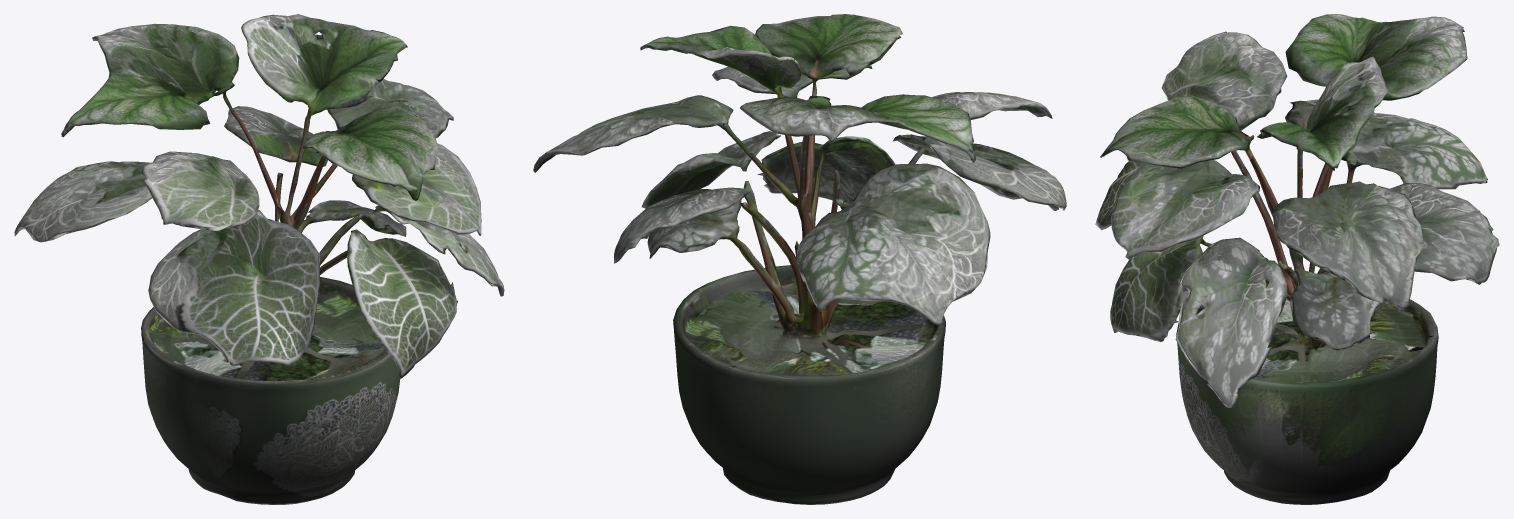
The model's file is begonia.glb.
The picture shows the model from 3 angles, left to right: view 1: azimuth 30°, elevation 25°; view 2: azimuth 150°, elevation 25°; view 3: azimuth 270°, elevation 25°; orthographic projection. The views are drawn at different scales.
Bounding box in the file's own units: 2 × 1.95 × 1.71.
Materials: 1 (1 with a texture image).
